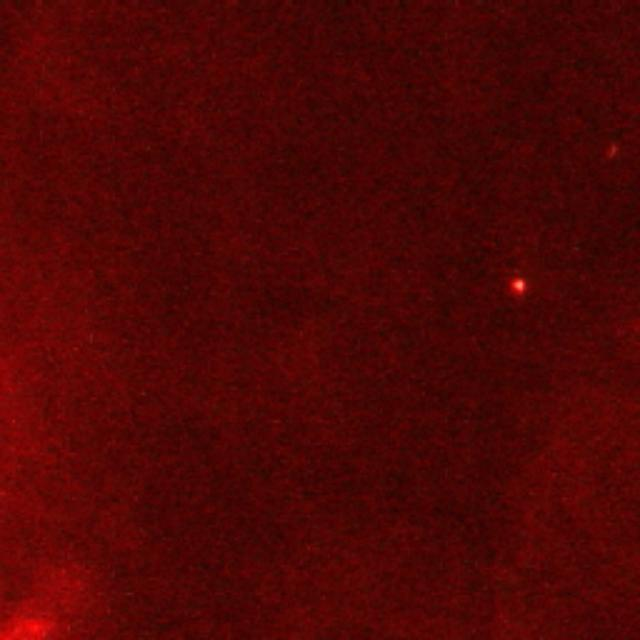Fragment: (513, 278, 527, 292)
